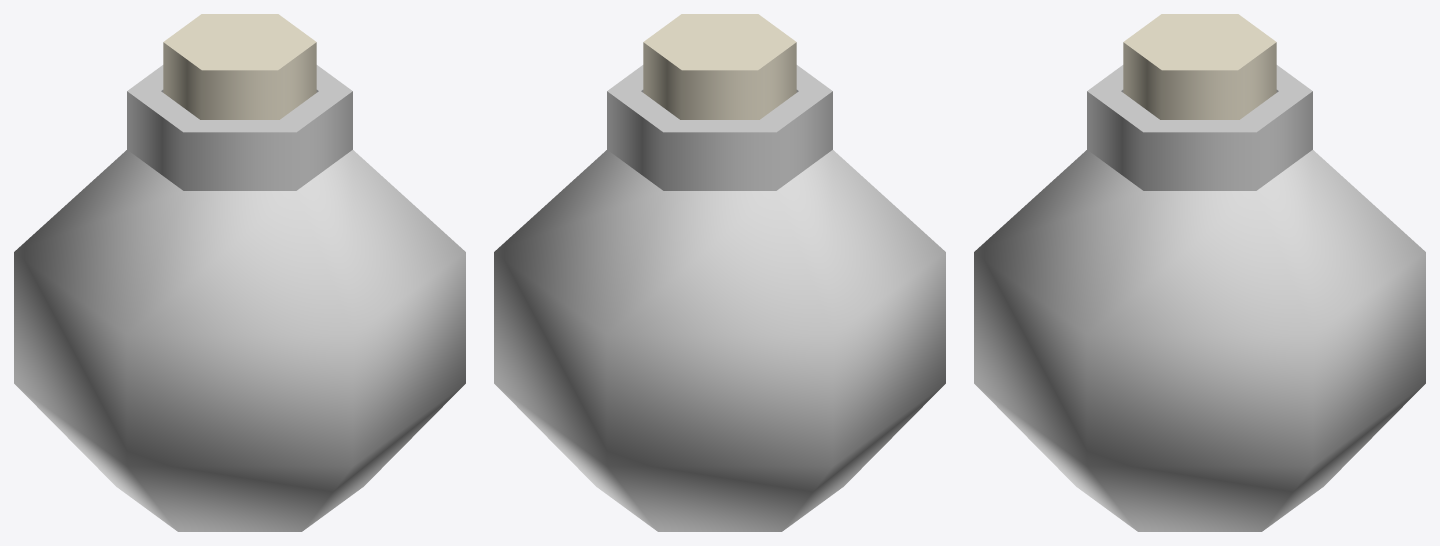
File: SM_Potion_1.fbx
The picture shows the model from 3 angles, left to right: view 1: azimuth 30°, elevation 25°; view 2: azimuth 150°, elevation 25°; view 3: azimuth 270°, elevation 25°; orthographic projection.
Visible parts, largest first — view 1: HealthBomb; view 2: HealthBomb; view 3: HealthBomb.
Part boxes in pixels (x1,y1,x2,y2): HealthBomb: (14,14,465,531); HealthBomb: (494,14,945,531); HealthBomb: (974,14,1425,531).
Bounding box in the file's own units: 10.91 × 13.68 × 12.6.
